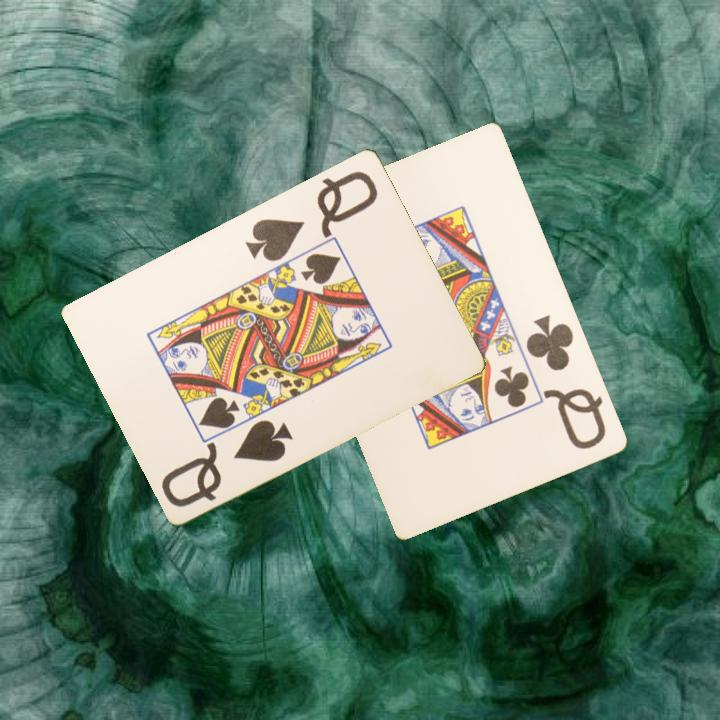Qc: (523, 311, 610, 453)
Qs: (241, 166, 382, 264), (157, 415, 296, 510)
